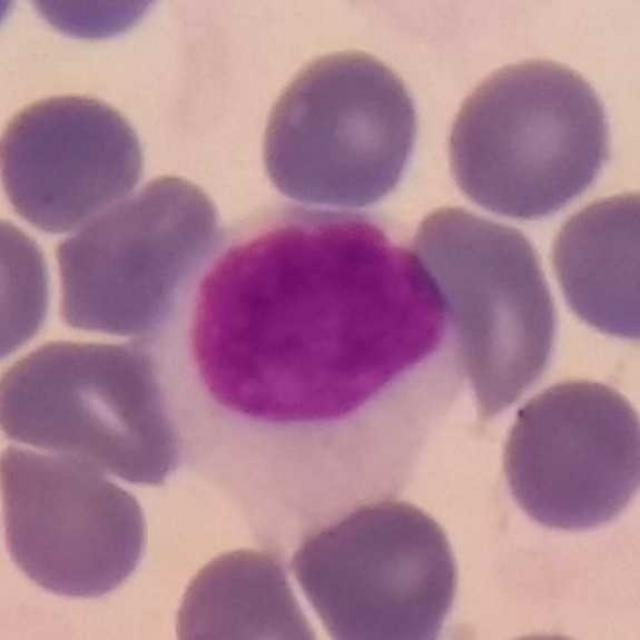Monocyte: (178, 208, 460, 552)
RBC: (398, 200, 566, 418), (439, 49, 622, 224), (47, 166, 228, 340), (252, 42, 428, 213), (0, 330, 187, 488), (285, 492, 470, 640), (0, 433, 156, 607), (493, 372, 640, 538), (0, 84, 150, 234), (166, 541, 330, 640), (544, 185, 640, 347), (0, 209, 59, 374), (8, 0, 187, 50)
